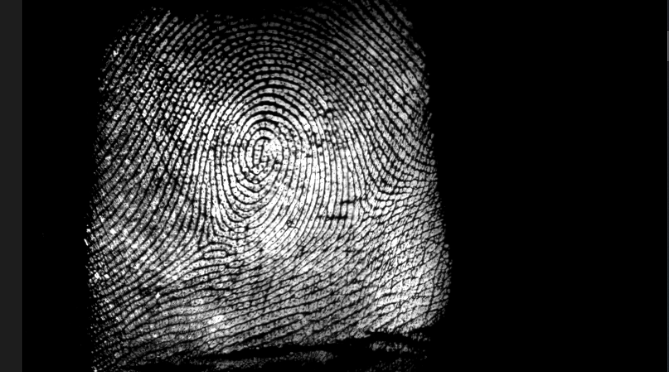deltas: (186, 202, 244, 255), (345, 192, 390, 240)
nucleo: (235, 129, 278, 174)
